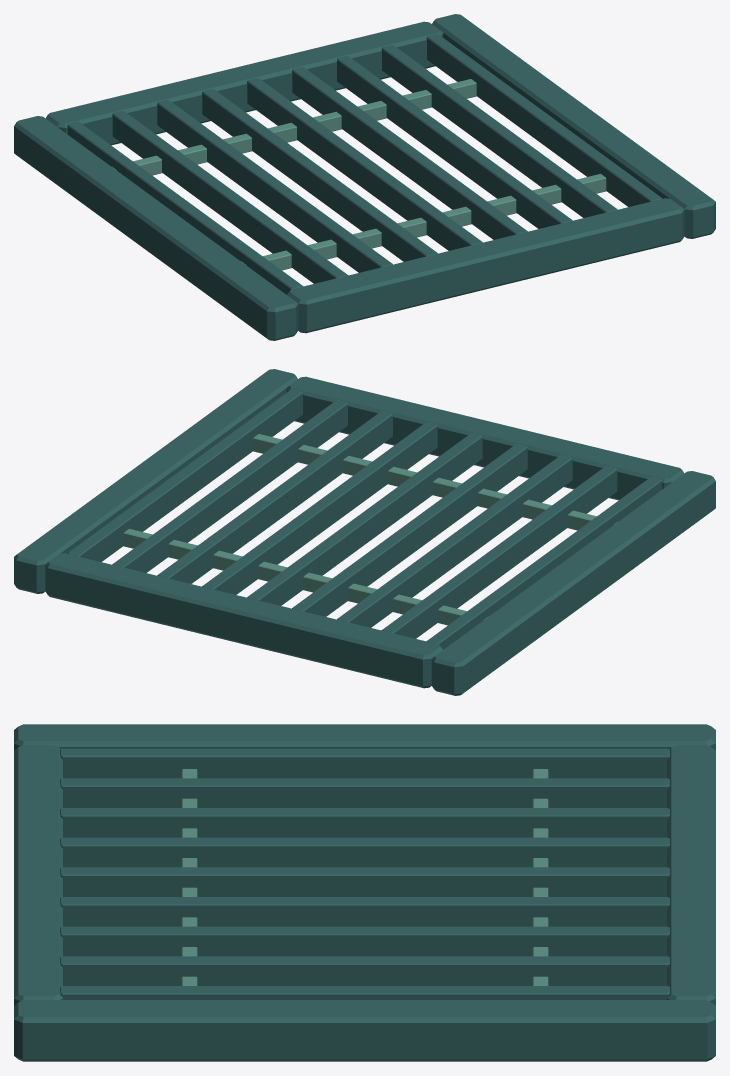
The model's file is floor-grate.glb.
3 views of the same model, one above another, from view 1: azimuth 30°, elevation 25°; view 2: azimuth 150°, elevation 25°; view 3: azimuth 270°, elevation 25° (orthographic). The views are drawn at different scales.
Visible parts, largest first — view 1: floor-grate__body; view 2: floor-grate__body; view 3: floor-grate__body.
Boxes of the visible parts, bbox=[...] form: floor-grate__body: bbox=[14, 14, 715, 340]; floor-grate__body: bbox=[14, 369, 715, 695]; floor-grate__body: bbox=[14, 724, 715, 1061].
Size of the model in its own units: 2 by 0.14 by 2.
